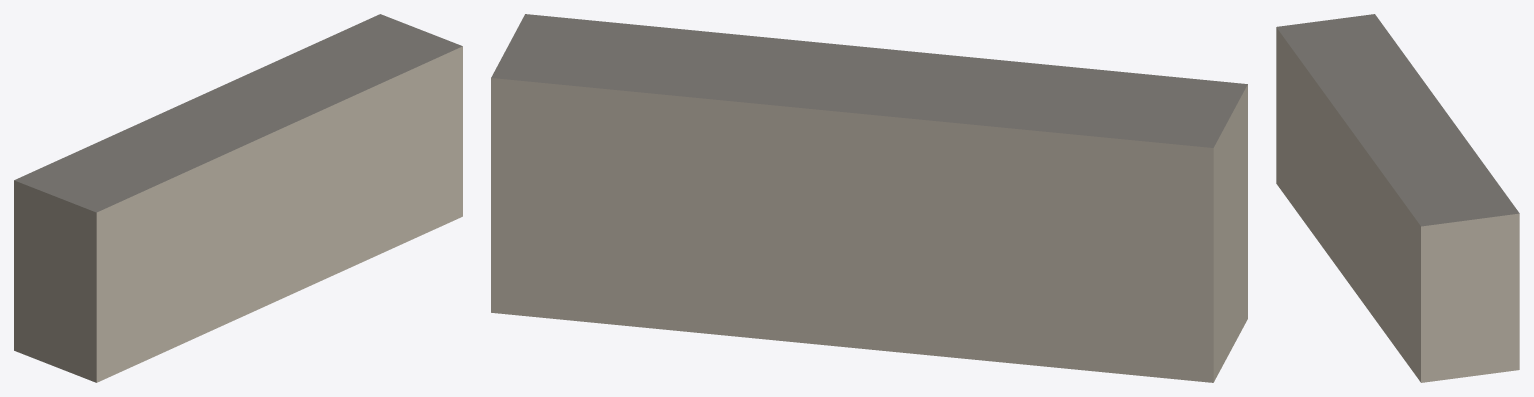
The picture shows the model from 3 angles, left to right: view 1: azimuth 30°, elevation 25°; view 2: azimuth 150°, elevation 25°; view 3: azimuth 270°, elevation 25°; orthographic projection. The views are drawn at different scales.
Parts seen in each view (by area): view 1: HP-w380339889; view 2: HP-w380339889; view 3: HP-w380339889.
Part boxes in pixels (x1,y1,x2,y2): HP-w380339889: (14,14,462,382); HP-w380339889: (491,14,1247,382); HP-w380339889: (1276,14,1519,382).
Size of the model in its own units: 43.69 by 15 by 21.17.
